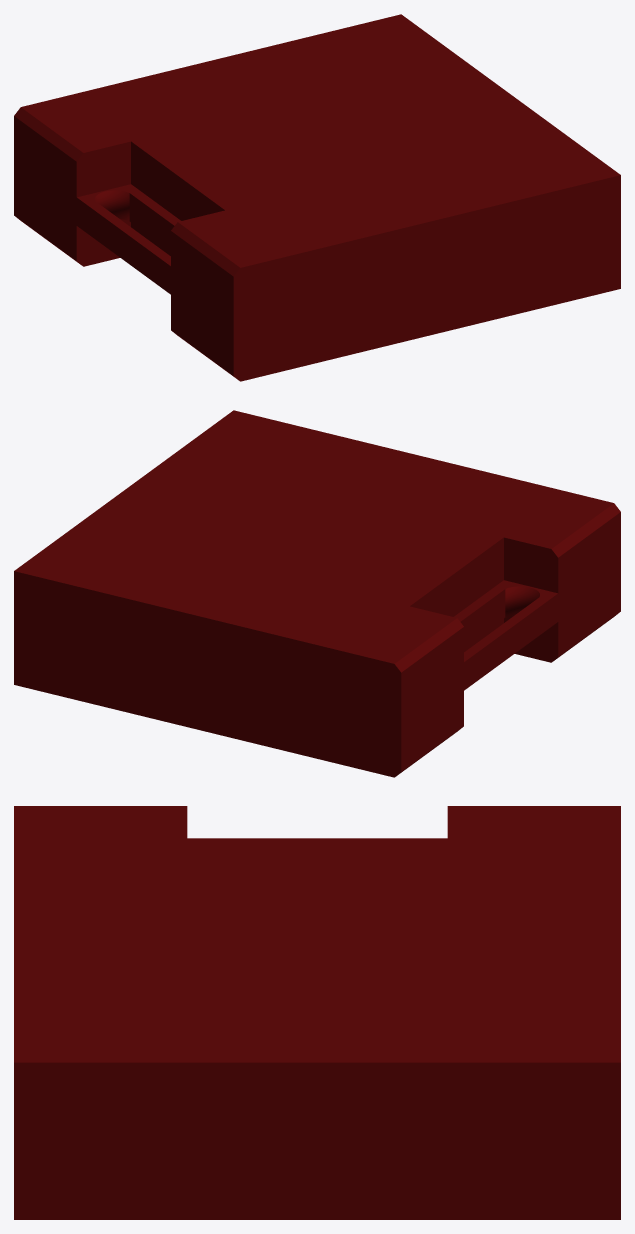
Rendered from Red suitcase.fbx.
The picture shows the model from 3 angles, top to bottom: view 1: azimuth 30°, elevation 25°; view 2: azimuth 150°, elevation 25°; view 3: azimuth 270°, elevation 25°; orthographic projection. The views are drawn at different scales.
Parts seen in each view (by area): view 1: Red suitcase; view 2: Red suitcase; view 3: Red suitcase.
Boxes of the visible parts, left/top/right/bottom form: Red suitcase: left=14, top=14, right=620, bottom=381; Red suitcase: left=14, top=410, right=620, bottom=777; Red suitcase: left=14, top=806, right=620, bottom=1219.
Bounding box in the file's own units: 36.19 × 10.16 × 35.56.
